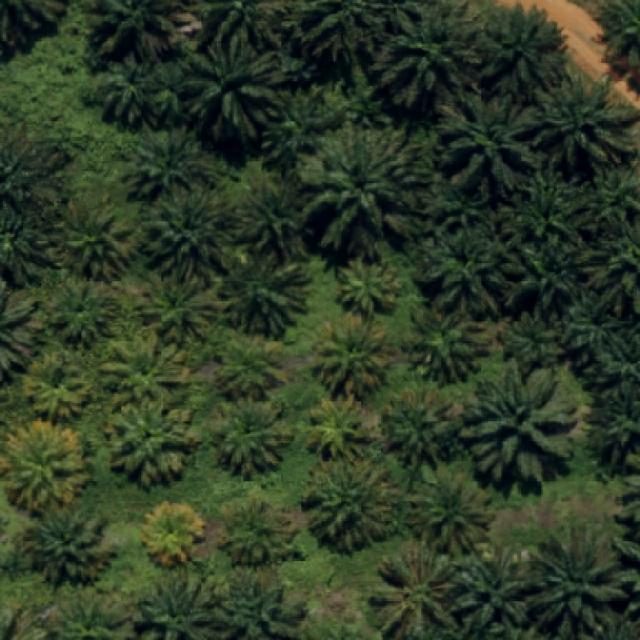Kelapa_Sawit: (302, 120, 423, 246), (462, 365, 580, 492), (178, 30, 296, 148), (519, 68, 638, 175), (524, 521, 630, 640), (365, 7, 480, 115), (437, 86, 545, 196), (415, 224, 520, 324), (138, 182, 236, 289), (450, 542, 547, 640), (2, 416, 92, 518), (105, 396, 200, 492), (100, 322, 194, 416), (368, 549, 464, 640), (305, 459, 393, 558), (216, 245, 310, 337), (498, 166, 592, 256), (483, 1, 569, 97), (48, 194, 137, 286), (121, 122, 222, 202), (309, 312, 393, 406), (138, 264, 236, 344), (411, 469, 497, 560), (263, 88, 345, 182), (26, 506, 119, 588), (504, 236, 591, 322), (376, 387, 462, 471), (216, 483, 302, 566), (235, 171, 312, 263), (215, 394, 292, 483), (98, 47, 177, 131), (408, 308, 488, 384), (215, 328, 290, 404), (51, 276, 120, 352), (24, 348, 94, 422), (501, 304, 568, 376), (142, 497, 206, 572), (336, 253, 402, 319), (306, 400, 372, 466)
